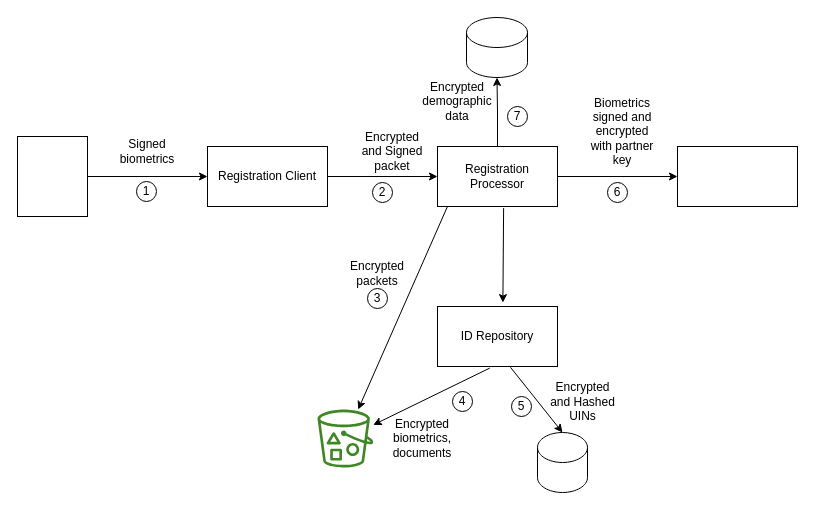
Image size: 815x510. Some labels were removed from this diagram. Each missing label, with the box of its shape:
ABIS: (676, 146, 798, 206)
Biometric devices (L0): (16, 136, 88, 216)
Object Store: (317, 409, 373, 467)
Postgres DB: (536, 432, 588, 492)
RegProc DB: (466, 16, 528, 78)
